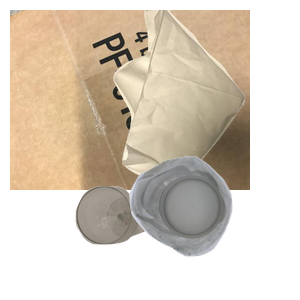cardboard: (10, 10, 250, 190)
glass: (73, 184, 214, 300)
plastic: (127, 154, 300, 300)
trash: (111, 10, 300, 190)
